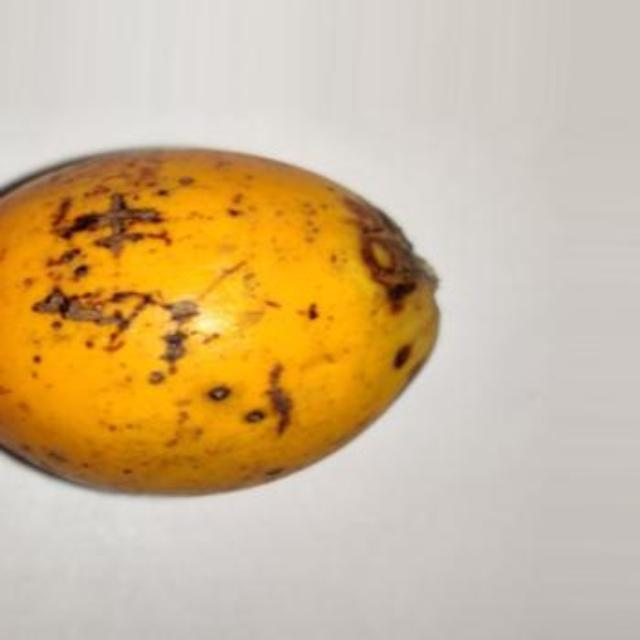good: (0, 148, 439, 499)
